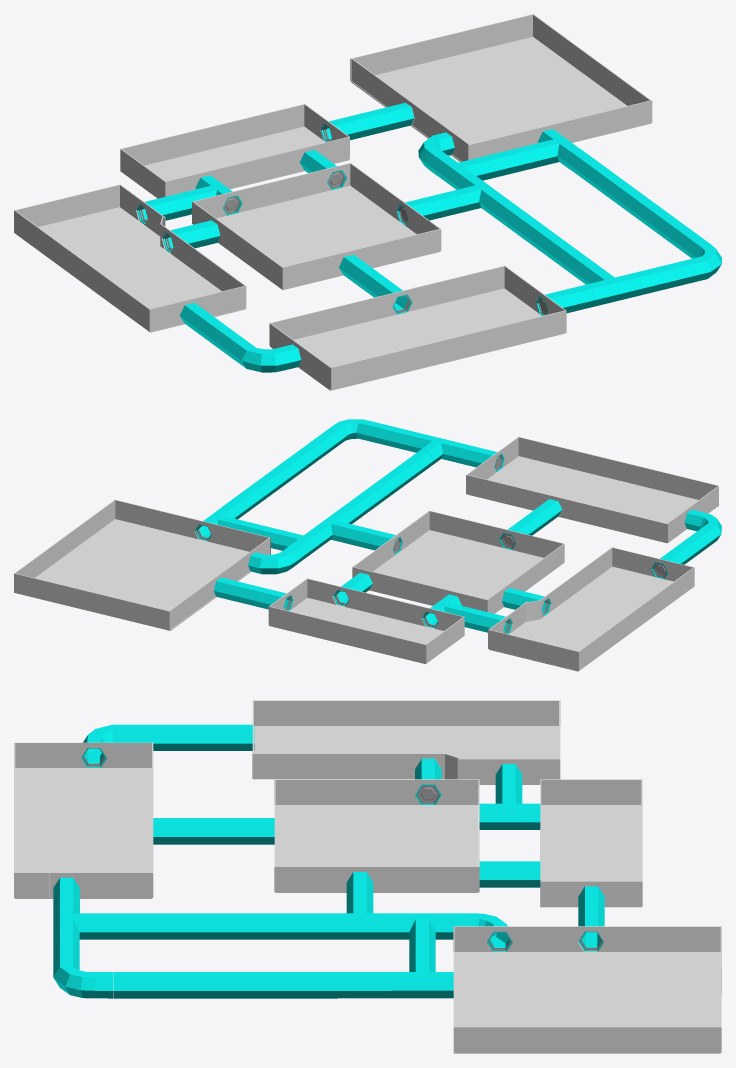
The model's file is labs_final.fbx.
3 views of the same model, one above another, from view 1: azimuth 30°, elevation 25°; view 2: azimuth 150°, elevation 25°; view 3: azimuth 270°, elevation 25° (orthographic). The views are drawn at different scales.
Parts seen in each view (by area): view 1: labs; view 2: labs; view 3: labs.
Boxes of the visible parts, x1,y1,x2,y2 form: labs: (14, 14, 721, 390); labs: (14, 419, 721, 671); labs: (14, 700, 721, 1053).
Bounding box in the file's own units: 25720 × 959 × 23518.
